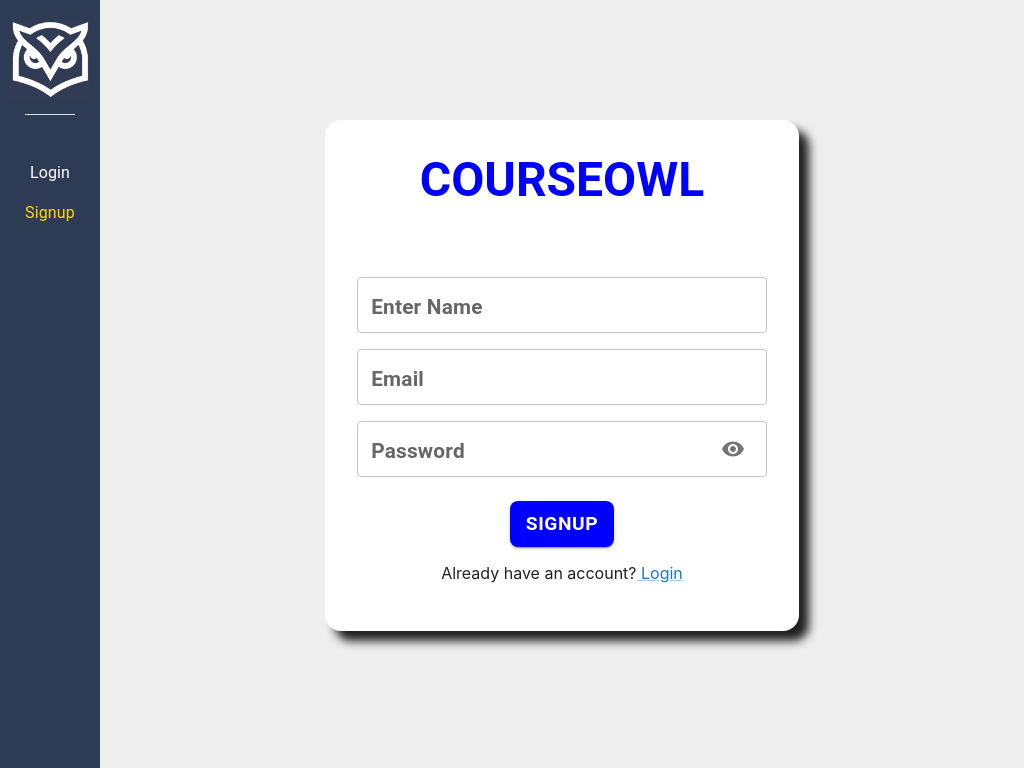
Test case: Signup Page › should display error message if password is empty
In the field named "name": coordinates (562, 305) [357, 277, 767, 333], type "John Doe"
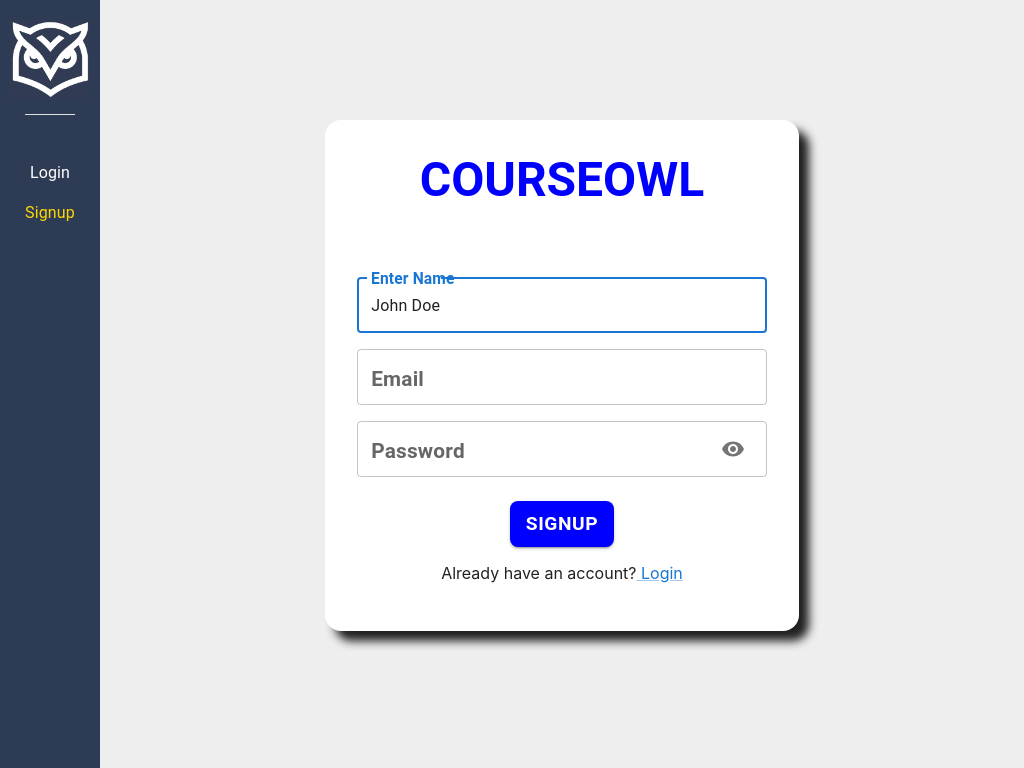
In the field named "email": coordinates (562, 377) [357, 349, 767, 405], type "john@example.com"
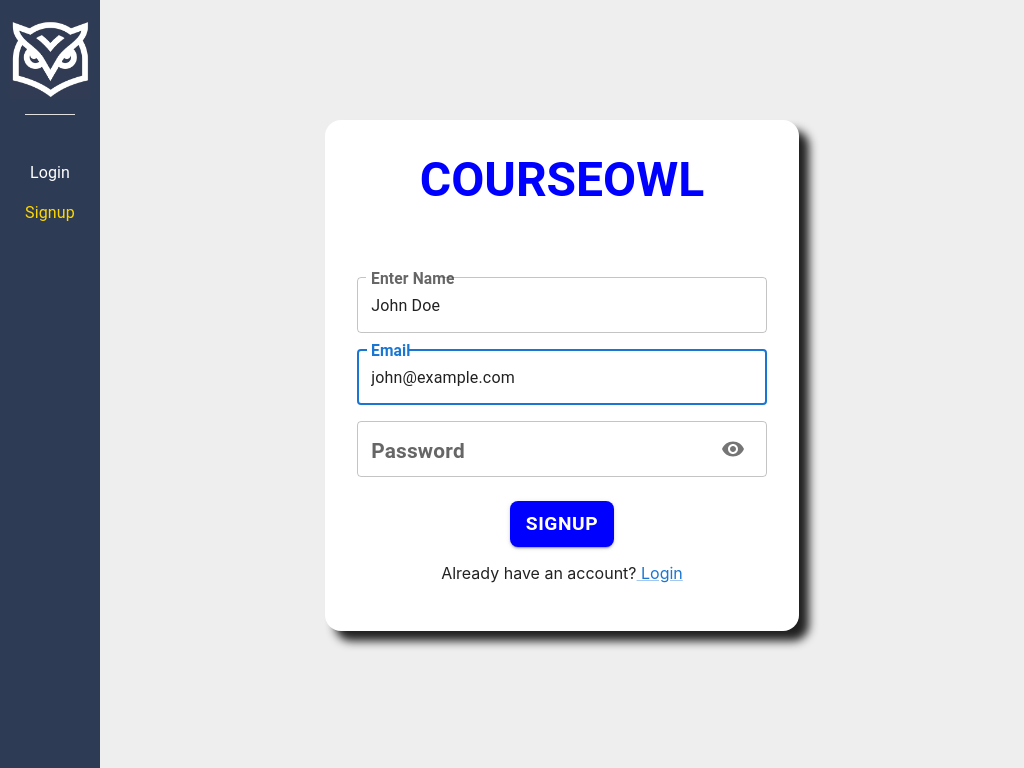
Note: Leave password empty
Click the button "SignUp": coordinates (562, 524) [510, 501, 614, 547]
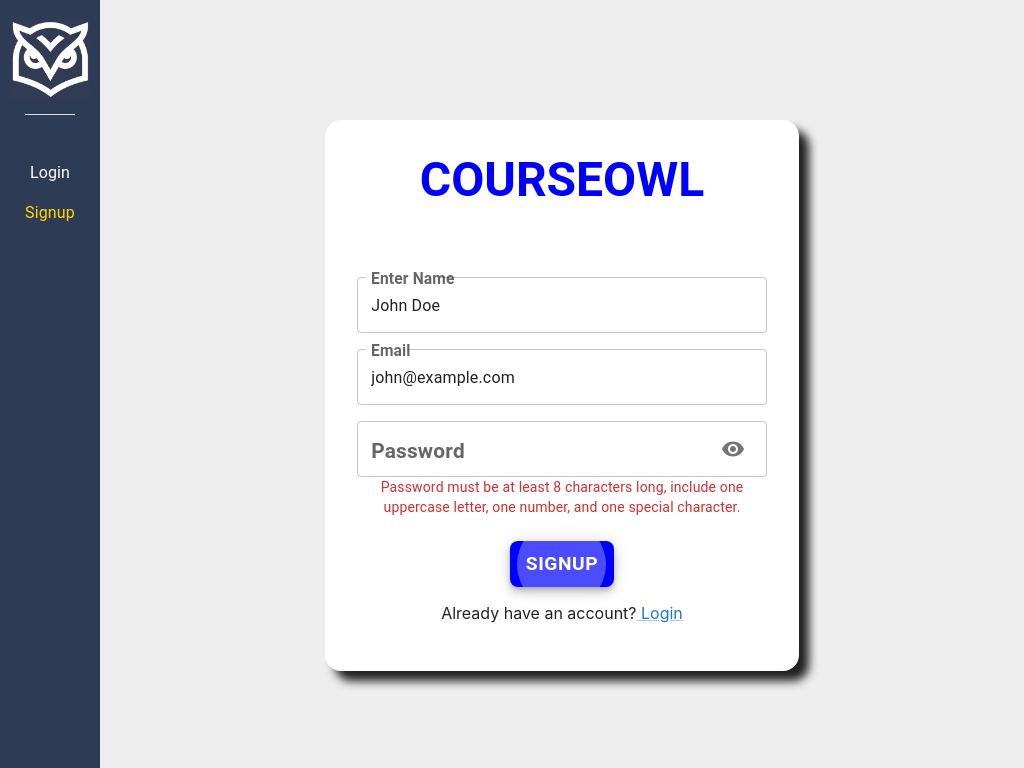
Check: the text "Password must be at least 8 characters long, include one uppercase letter, one number, and one special character." is shown, box [381, 479, 744, 515]
